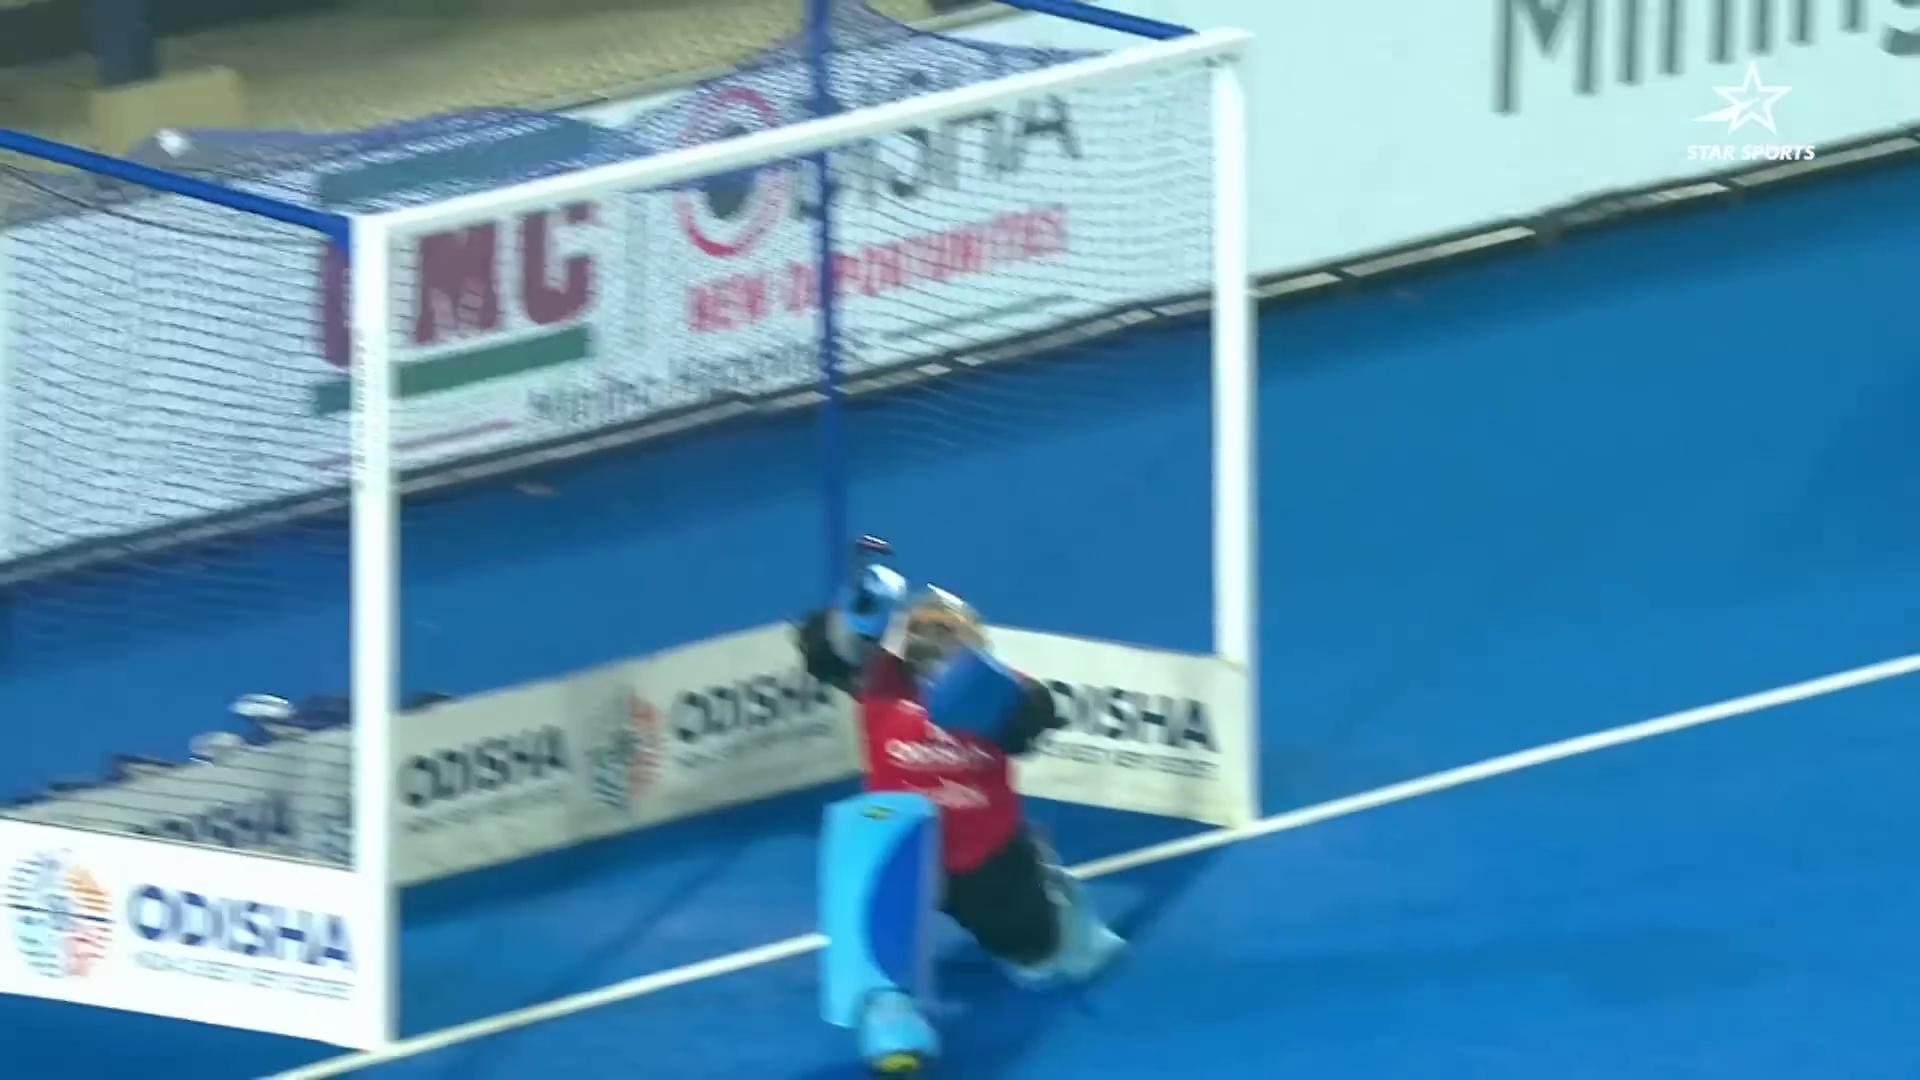ball: (856, 560, 911, 607)
